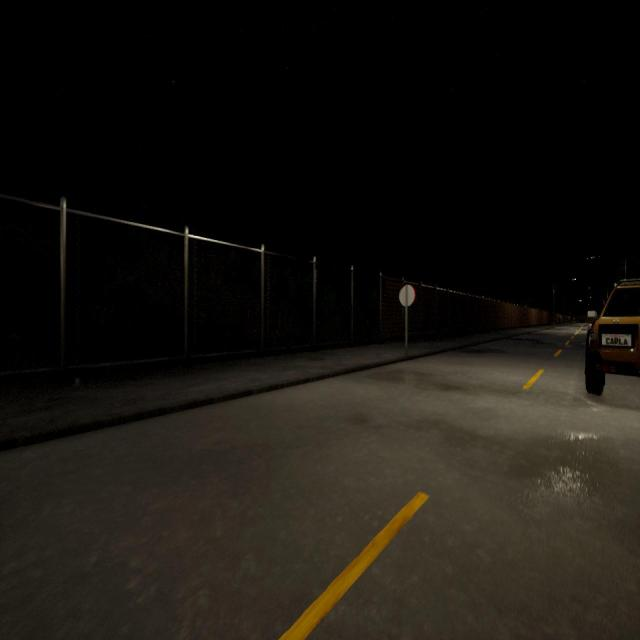Traffic_Signs: (399, 284, 416, 307)
Vehicle: (584, 278, 640, 394)
